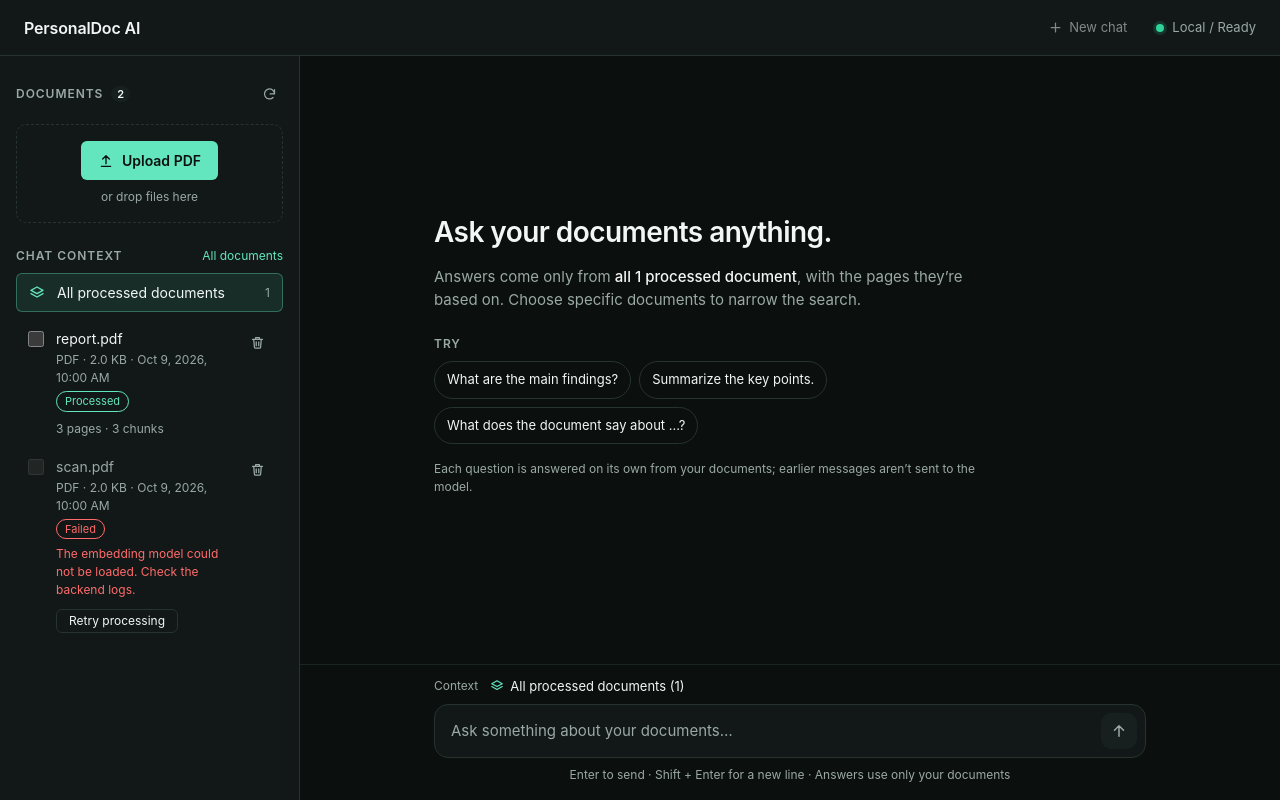
Test case: retry errors › says when the backend cannot be reached
The width and height of the screenshot is (1280, 800).
Expected: the checkbox named "Ask about report.pdf" is shown, [28,331,44,347]
Click the button "Retry processing": (117, 621) [56,609,178,633]
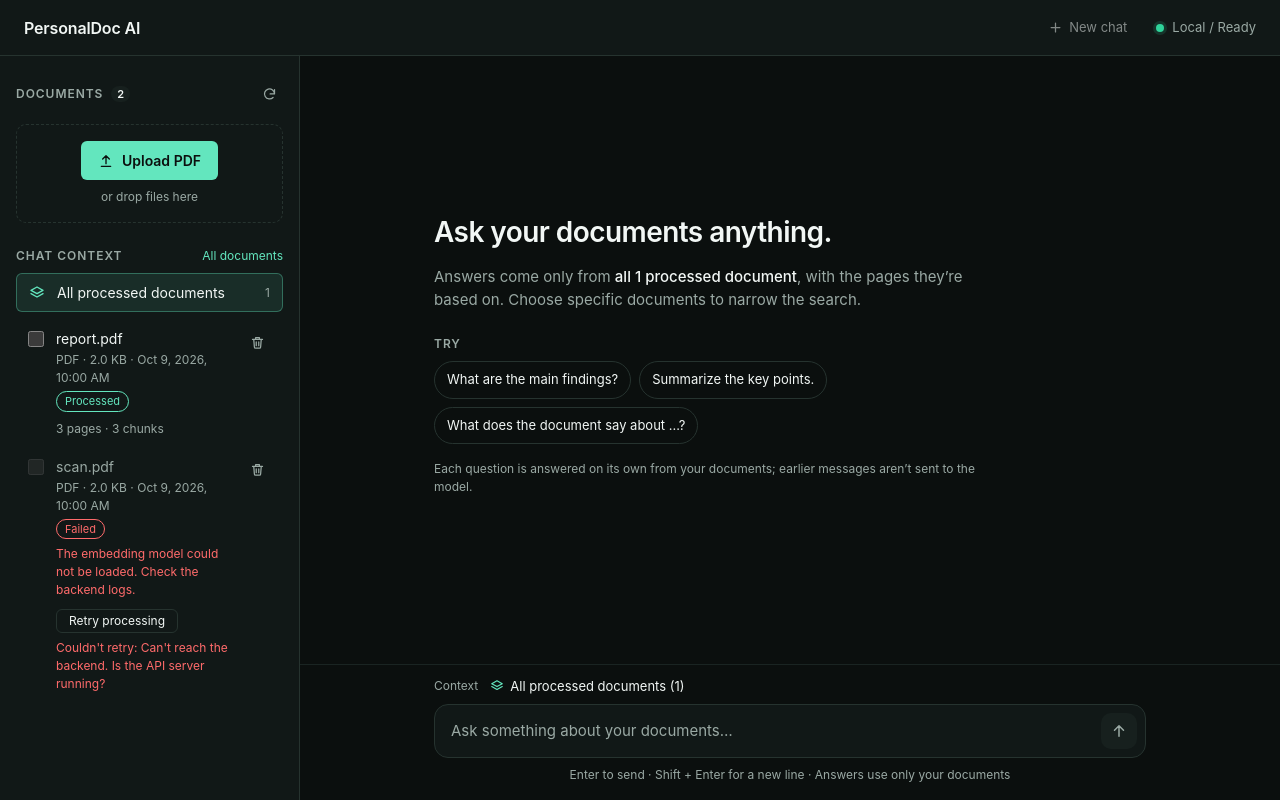
Expected: the message reads "Couldn't retry: Can't reach the backend. Is the API server running?", [56,639,231,693]
